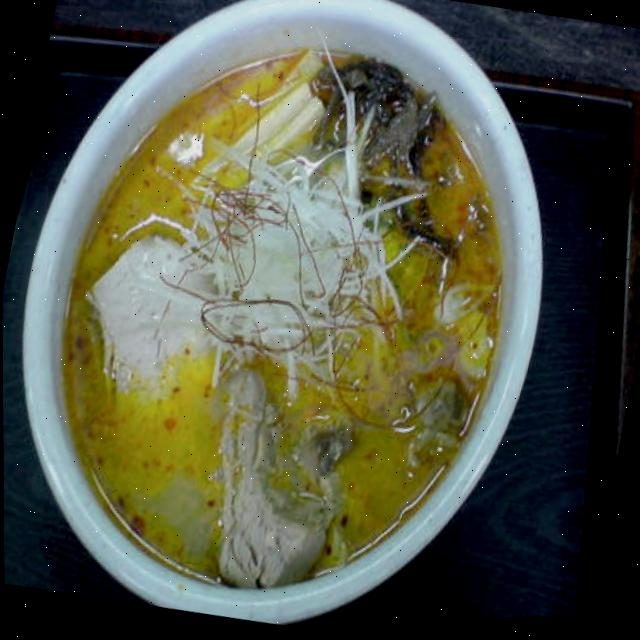面条主食: (19, 0, 554, 618)
